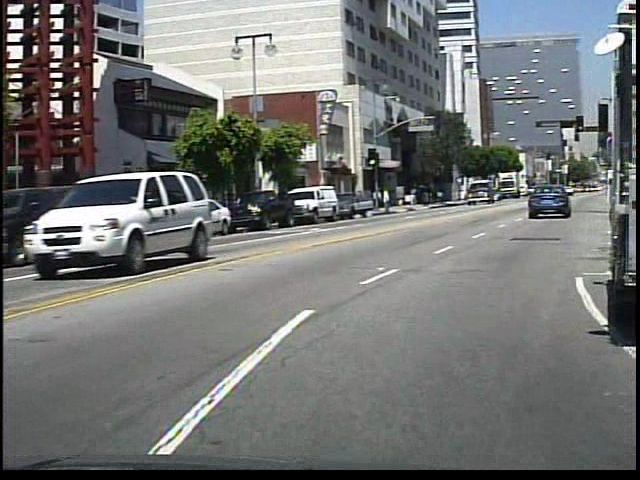person: (383, 186, 398, 215)
